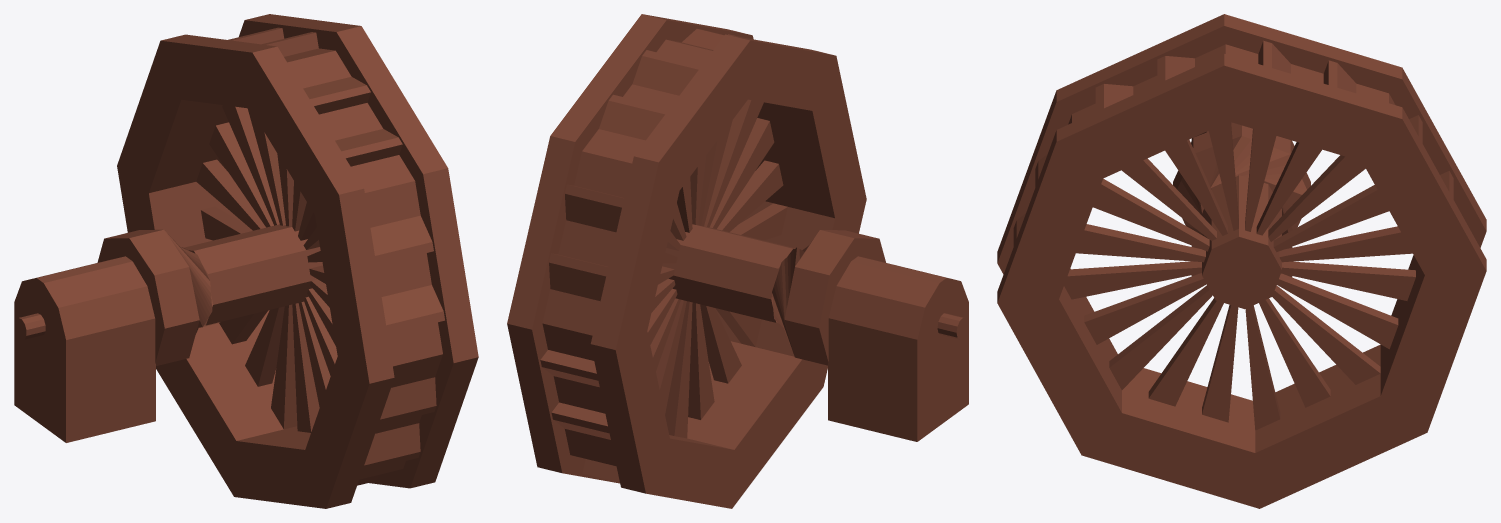
Rendered from waterwheel 1.fbx.
The picture shows the model from 3 angles, left to right: view 1: azimuth 30°, elevation 25°; view 2: azimuth 150°, elevation 25°; view 3: azimuth 270°, elevation 25°; orthographic projection. The views are drawn at different scales.
Parts seen in each view (by area): view 1: Cylinder.013, Cylinder.012; view 2: Cylinder.013, Cylinder.012; view 3: Cylinder.013, Cylinder.012.
Boxes of the visible parts, box(x1,y1,x2,y2) form: Cylinder.013: box(117, 14, 478, 508); Cylinder.012: box(14, 229, 212, 442); Cylinder.013: box(507, 14, 866, 508); Cylinder.012: box(772, 230, 968, 441); Cylinder.013: box(997, 14, 1486, 508); Cylinder.012: box(1173, 122, 1310, 277).
Bounding box in the file's own units: 1178 × 1554 × 1554.
